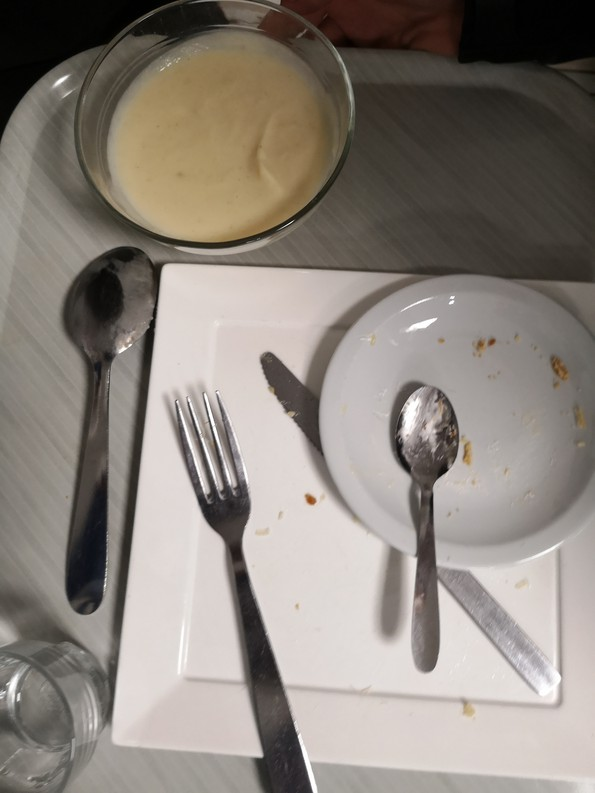cup: (1, 640, 111, 778)
cutlery: (165, 390, 321, 793), (60, 240, 147, 622), (386, 372, 476, 681), (425, 555, 563, 695), (248, 351, 326, 446)
orga: (128, 53, 330, 236)
